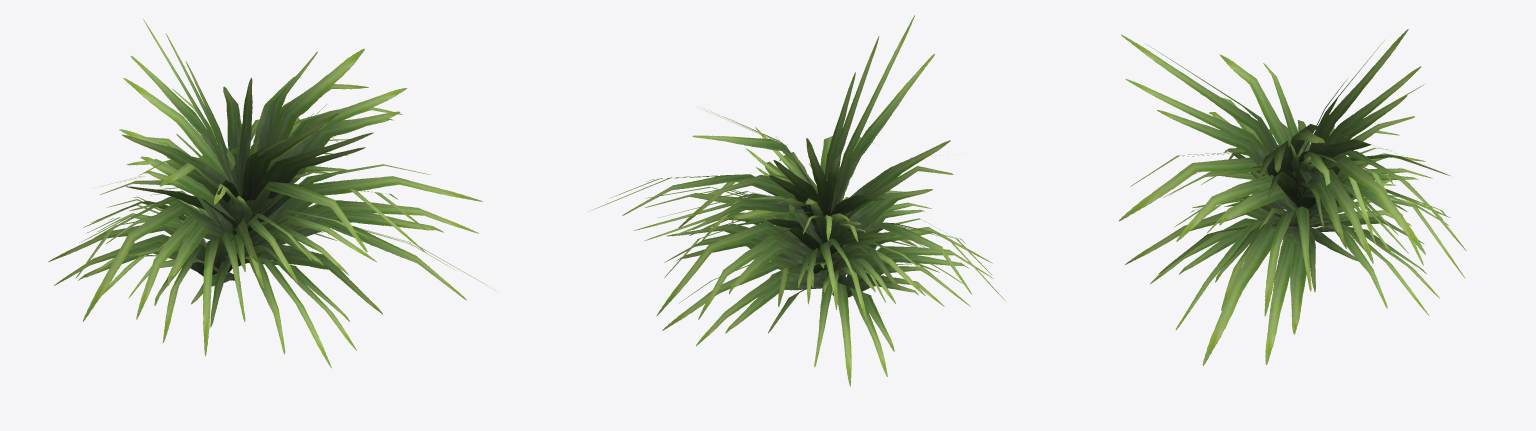
Rendered from tree_g.FBX.
The picture shows the model from 3 angles, left to right: view 1: azimuth 30°, elevation 25°; view 2: azimuth 150°, elevation 25°; view 3: azimuth 270°, elevation 25°; orthographic projection. The views are drawn at different scales.
Visible parts, largest first — view 1: tree_g; view 2: tree_g; view 3: tree_g.
Boxes of the visible parts, left/top/right/bottom form: tree_g: left=48, top=19, right=495, bottom=368; tree_g: left=589, top=15, right=1005, bottom=386; tree_g: left=1119, top=29, right=1466, bottom=365.
Bounding box in the file's own units: 4.57 × 2.92 × 4.34.
1 material, 1 textured.
